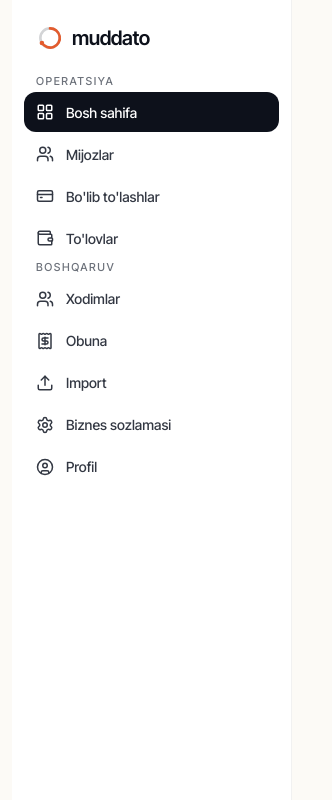
sidebar navigation — real clicks, not just config membership › clicking "Mijozlar" actually navigates to the customers route
Click the link "Mijozlar" at (75, 154), box [36,145,114,163]
(page scrolled)
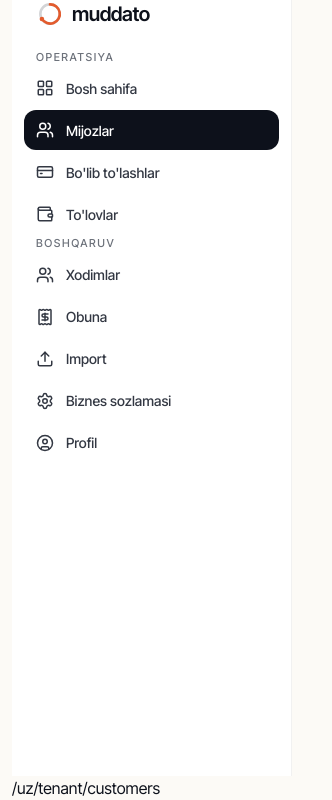
Expected: the text with test id "current-path" reads "/uz/tenant/customers", [12,778,160,798]
